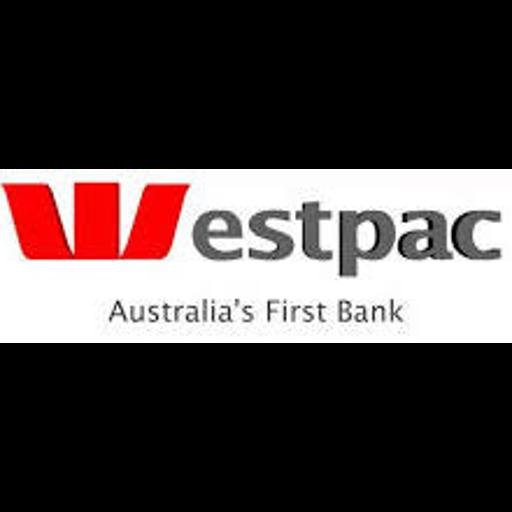Westpac Institutional Banking: (0, 169, 512, 343)
